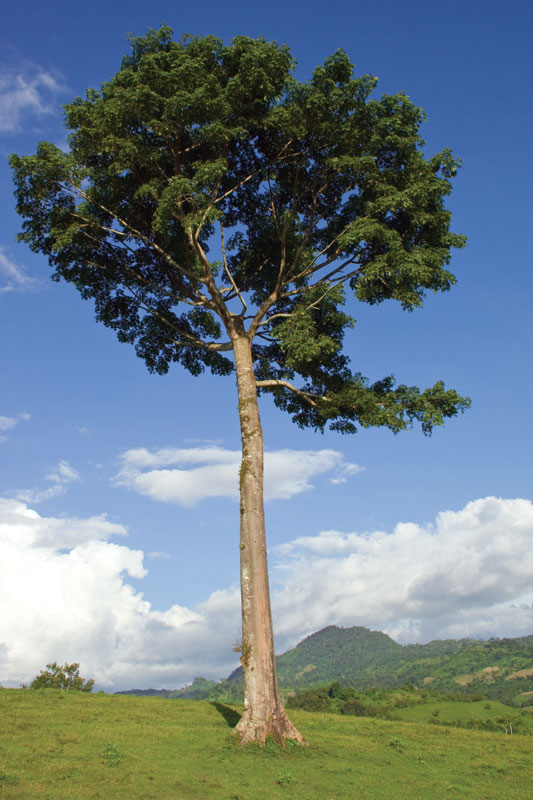tree: (7, 19, 472, 749)
